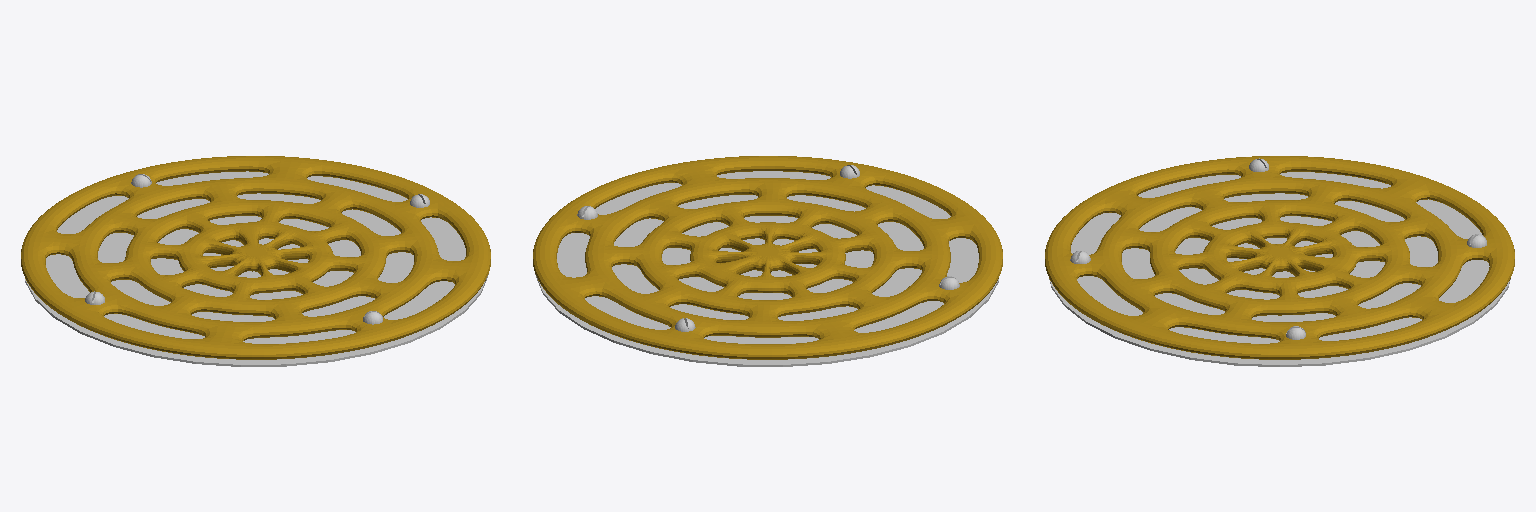
File: FloorDrain2.obj
3 views of the same model, side by side, from view 1: azimuth 30°, elevation 25°; view 2: azimuth 150°, elevation 25°; view 3: azimuth 270°, elevation 25° (orthographic).
Parts seen in each view (by area): view 1: Circle_Circle, Cylinder; view 2: Circle_Circle, Cylinder; view 3: Circle_Circle, Cylinder.
Part boxes in pixels (x1,y1,x2,y2): Circle_Circle: (21,156,490,359); Cylinder: (25,171,488,366); Circle_Circle: (533,156,1002,359); Cylinder: (535,171,998,366); Circle_Circle: (1045,156,1514,359); Cylinder: (1049,172,1510,366).
Size of the model in its own units: 1.98 by 0.1202 by 1.98.